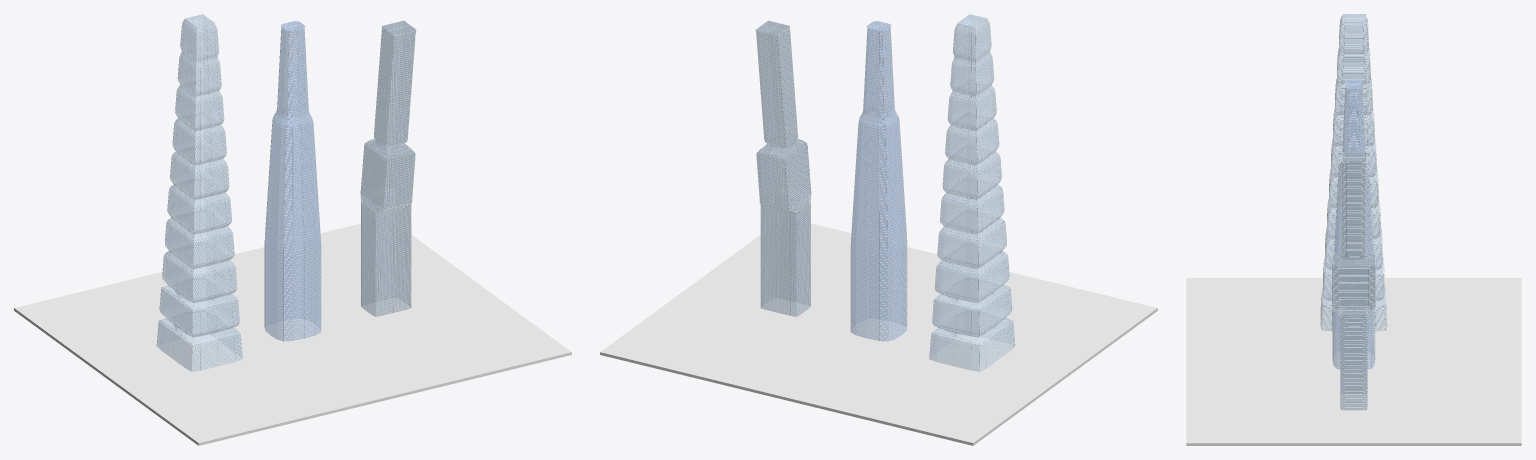
3 views of the same model, side by side, from view 1: azimuth 30°, elevation 25°; view 2: azimuth 150°, elevation 25°; view 3: azimuth 270°, elevation 25° (orthographic). The views are drawn at different scales.
Visible parts, largest first — view 1: Cube, BrutalistGray, FortressBlue, GeometricMonolith; view 2: Cube, BrutalistGray, FortressBlue, GeometricMonolith; view 3: Cube, GeometricMonolith, BrutalistGray, FortressBlue.
Boxes of the visible parts, x1,y1,x2,y2 form: Cube: (14,223,571,445); BrutalistGray: (156,14,242,371); FortressBlue: (264,21,321,341); GeometricMonolith: (360,20,416,316); Cube: (600,223,1157,445); BrutalistGray: (929,14,1015,371); FortressBlue: (850,21,907,341); GeometricMonolith: (755,20,811,316); Cube: (1186,278,1521,445); GeometricMonolith: (1332,152,1375,410); BrutalistGray: (1320,14,1387,331); FortressBlue: (1332,80,1375,369).
Size of the model in its own units: 140 by 120 by 120.
